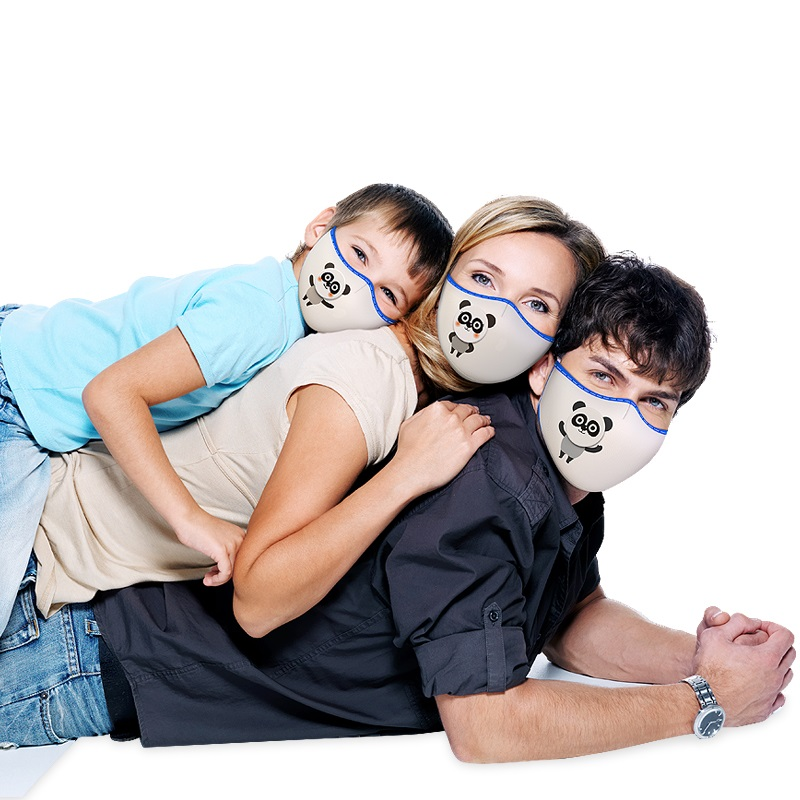face_mask: (539, 327, 681, 492), (438, 242, 570, 384), (297, 213, 422, 331)
